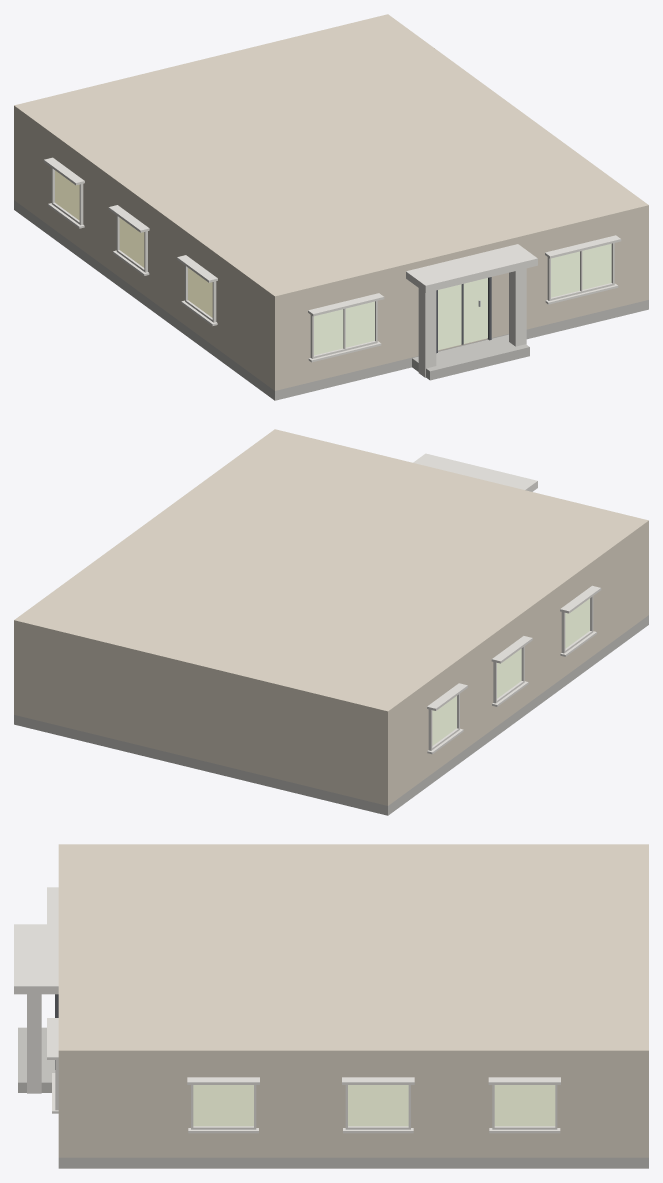
Rendered from SM_Floor_GroundRes.fbx.
3 views of the same model, one above another, from view 1: azimuth 30°, elevation 25°; view 2: azimuth 150°, elevation 25°; view 3: azimuth 270°, elevation 25° (orthographic). The views are drawn at different scales.
Visible parts, largest first — view 1: SM_Floor_GroundRes; view 2: SM_Floor_GroundRes; view 3: SM_Floor_GroundRes.
Boxes of the visible parts, left/top/right/bottom form: SM_Floor_GroundRes: left=14, top=14, right=648, bottom=400; SM_Floor_GroundRes: left=14, top=429, right=648, bottom=815; SM_Floor_GroundRes: left=14, top=844, right=648, bottom=1168.
Bounding box in the file's own units: 1258 × 320 × 1560.
